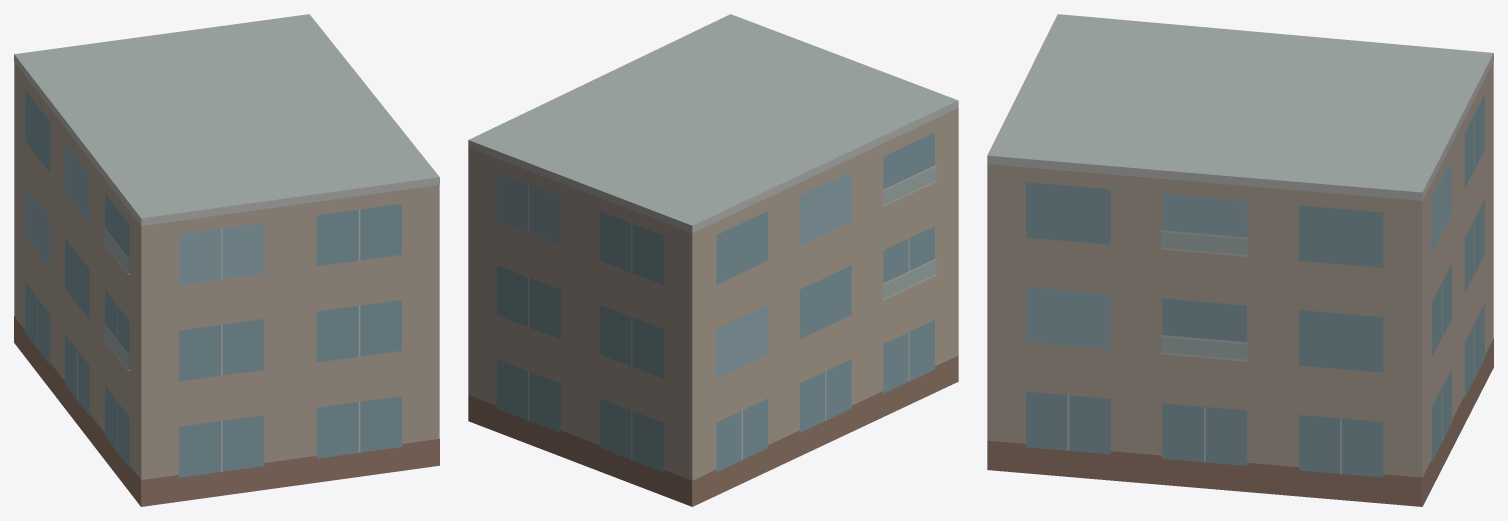
The model's file is survey-upis-32641317.glb.
3 views of the same model, side by side, from view 1: azimuth 30°, elevation 25°; view 2: azimuth 150°, elevation 25°; view 3: azimuth 270°, elevation 25° (orthographic). The views are drawn at different scales.
Visible parts, largest first — view 1: survey-upis-32641317.tmp; view 2: survey-upis-32641317.tmp; view 3: survey-upis-32641317.tmp.
Boxes of the visible parts, box(x1,y1,x2,y2) form: survey-upis-32641317.tmp: box(14, 14, 439, 506); survey-upis-32641317.tmp: box(468, 14, 958, 506); survey-upis-32641317.tmp: box(987, 14, 1493, 506).
Bounding box in the file's own units: 11.15 × 9.15 × 13.38.
